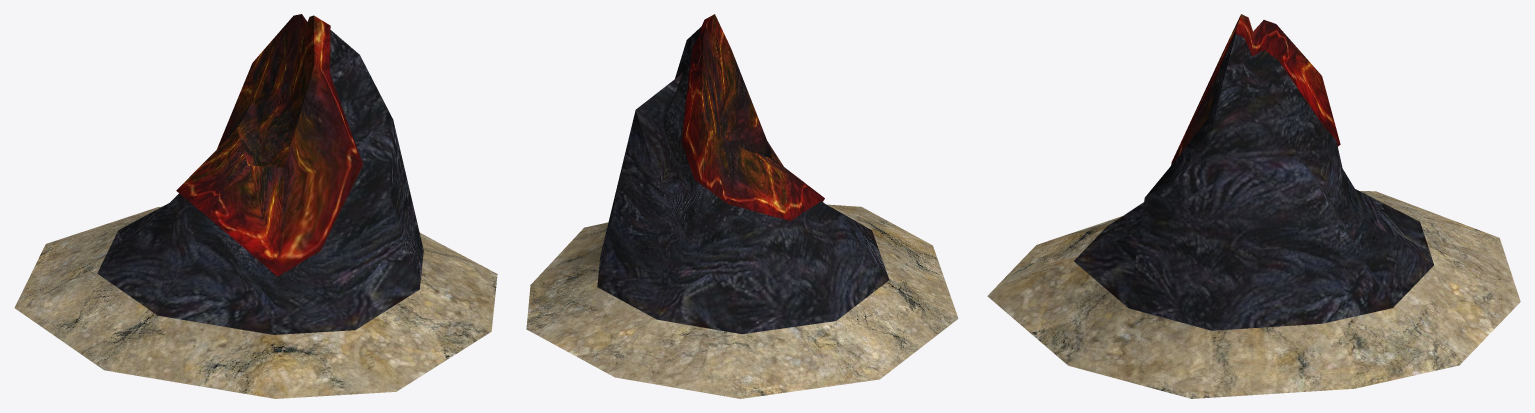
Rendered from pir_m_prp_cav_steamVent_column.fbx.
The picture shows the model from 3 angles, left to right: view 1: azimuth 30°, elevation 25°; view 2: azimuth 150°, elevation 25°; view 3: azimuth 270°, elevation 25°; orthographic projection. The views are drawn at different scales.
Visible parts, largest first — view 1: volcano_peak25, volcano_peak22, volcano_peak24; view 2: volcano_peak22, volcano_peak25, volcano_peak24; view 3: volcano_peak22, volcano_peak25, volcano_peak24.
Boxes of the visible parts, x1,y1,x2,y2 form: volcano_peak25: (14, 206, 497, 398); volcano_peak22: (97, 30, 423, 334); volcano_peak24: (176, 14, 363, 276); volcano_peak22: (597, 26, 889, 334); volcano_peak25: (526, 204, 958, 398); volcano_peak24: (681, 14, 824, 220); volcano_peak22: (1074, 33, 1433, 330); volcano_peak25: (987, 191, 1520, 398); volcano_peak24: (1171, 14, 1340, 165).
Bounding box in the file's own units: 2890 × 1953 × 3137.
3 materials, 3 textured.
